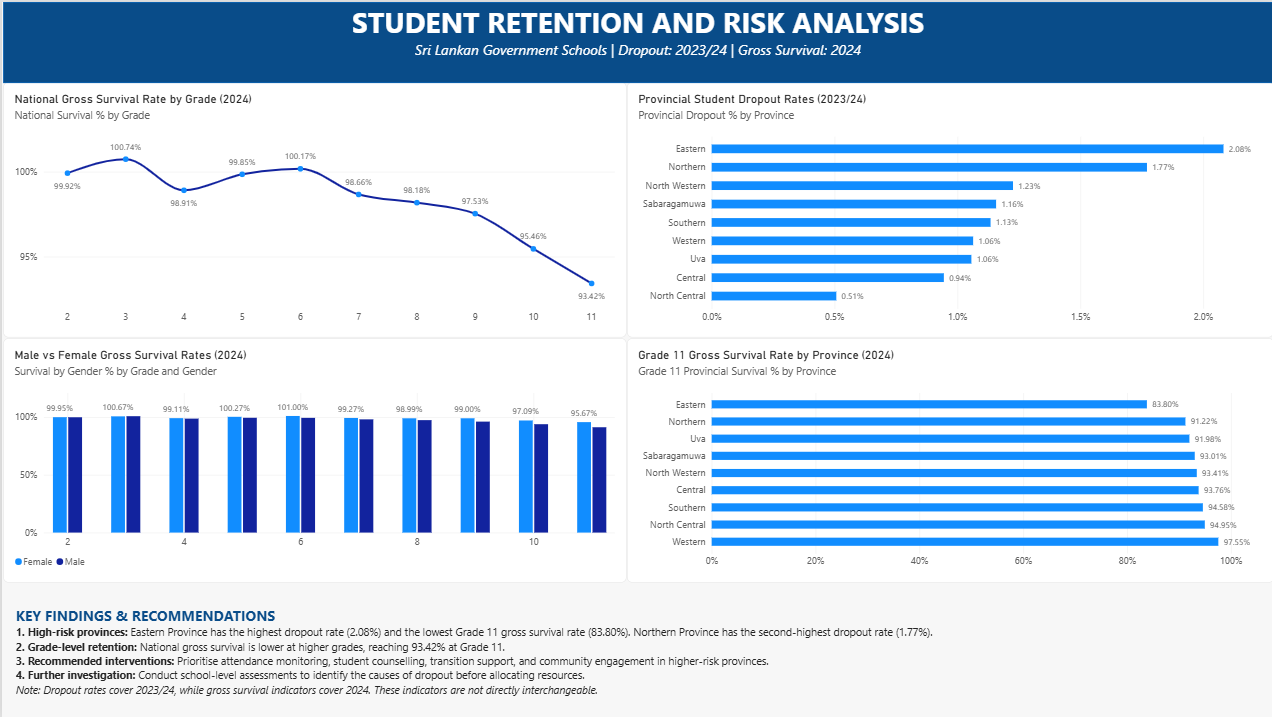

What the dashboard file says about the page in this screenshot:
{"tool":"powerbi","page":{"name":"Student Retention Analysis","canvas":[1920,1080],"ordinal":1},"visuals":[{"type":"lineChart","title":"\tNational Gross Survival Rate by Grade (2024)","fields":{"Category":["DimGrade.Grade"],"Y":["Survival_National.National Survival %"]},"box":[2.4,121.4,940.5,385.7],"z":0},{"type":"clusteredBarChart","title":"Provincial Student Dropout Rates (2023/24)","fields":{"Category":["DimProvince.Province"],"Y":["Dropout_Province.Provincial Dropout %"]},"box":[942.9,121.4,976.2,385.7],"z":1000},{"type":"clusteredColumnChart","title":"\tMale vs Female Gross Survival Rates (2024)","fields":{"Category":["DimGrade.Grade"],"Series":["Survival_National.Gender"],"Y":["Survival_National.Survival by Gender %"]},"box":[2.4,507.1,940.7,368.5],"z":2000},{"type":"clusteredBarChart","title":"Grade 11 Gross Survival Rate by Province (2024)","fields":{"Category":["DimProvince.Province"],"Y":["Survival_Province.Grade 11 Provincial Survival %"]},"box":[942.9,507.1,976.8,368.5],"z":3000},{"type":"textbox","box":[20.6,910.9,1897.8,170.7],"z":4000},{"type":"shape","box":[2.1,0,1918.3,122.4],"z":5000},{"type":"textbox","box":[2.4,0,1916.7,85.7],"z":6000}]}

Visuals, with their boxes in screenshot pixels (x1, y1, x2, y2), scaled from the page's 1920x1080 canvas onto the 1272x717 screenshot:
"	National Gross Survival Rate by Grade (2024)" lineChart: bbox(2, 81, 625, 337)
"Provincial Student Dropout Rates (2023/24)" clusteredBarChart: bbox(625, 81, 1271, 337)
"	Male vs Female Gross Survival Rates (2024)" clusteredColumnChart: bbox(2, 337, 625, 581)
"Grade 11 Gross Survival Rate by Province (2024)" clusteredBarChart: bbox(625, 337, 1271, 581)
textbox: bbox(14, 605, 1271, 716)
shape: bbox(1, 0, 1271, 81)
textbox: bbox(2, 0, 1271, 57)
